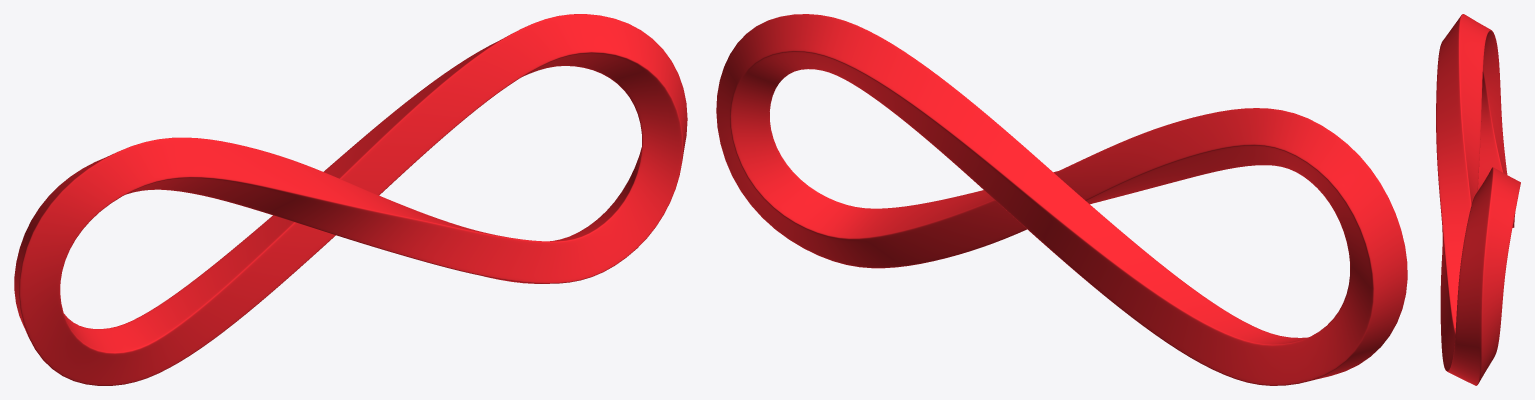
File: loopanimation360.glb
The picture shows the model from 3 angles, left to right: view 1: azimuth 30°, elevation 25°; view 2: azimuth 150°, elevation 25°; view 3: azimuth 270°, elevation 25°; orthographic projection. The views are drawn at different scales.
Parts seen in each view (by area): view 1: Loop; view 2: Loop; view 3: Loop.
Part boxes in pixels (x1,y1,x2,y2): Loop: (14,14,687,385); Loop: (716,14,1407,385); Loop: (1436,14,1520,385).
Bounding box in the file's own units: 0.166 × 0.06 × 0.0236.
